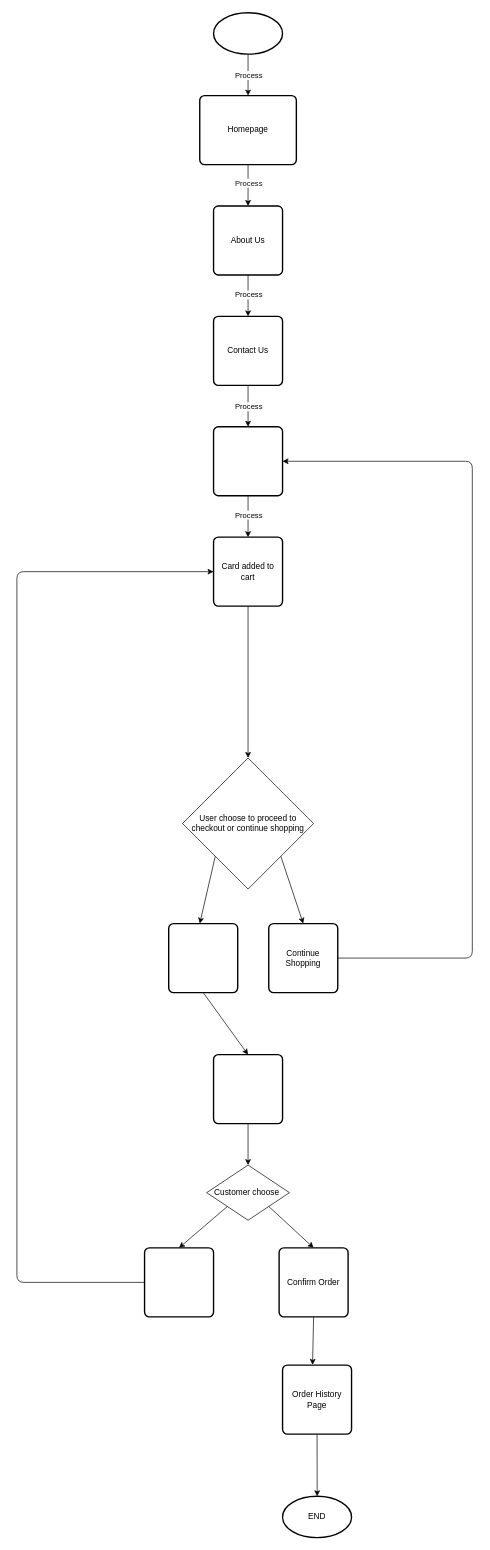
Some shapes in this 490 by 1550 pixel diagram are drawn without their labels. Each missing label, with the box of its shape:
Back to Cart: (144, 1247, 214, 1317)
CheckOut Page: (213, 1054, 283, 1124)
Proceed to Checkout: (168, 923, 238, 993)
Products page: (213, 426, 283, 496)
Start: (213, 12, 283, 55)
